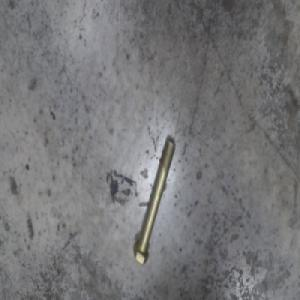Bolt: (132, 120, 174, 259)
